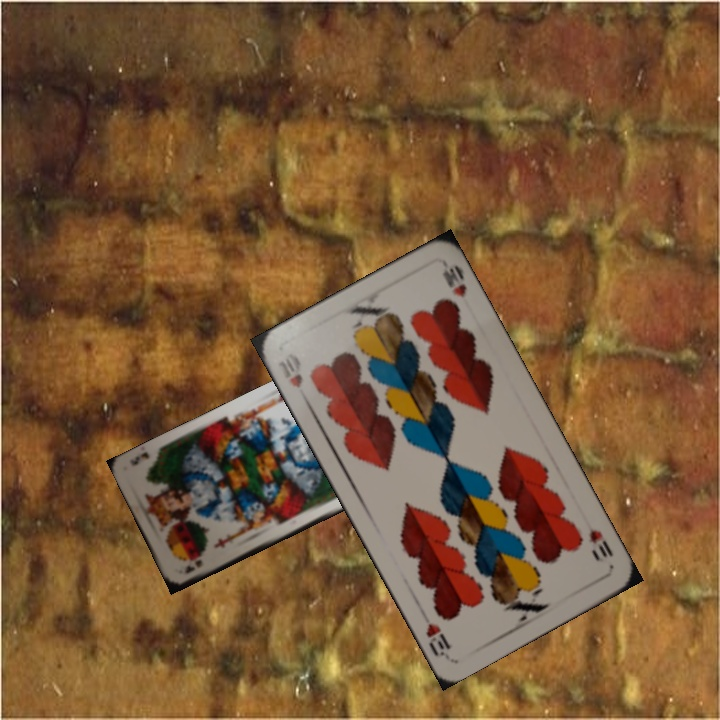H10: (273, 354, 305, 391), (585, 525, 616, 560)
SK: (181, 556, 204, 576)
